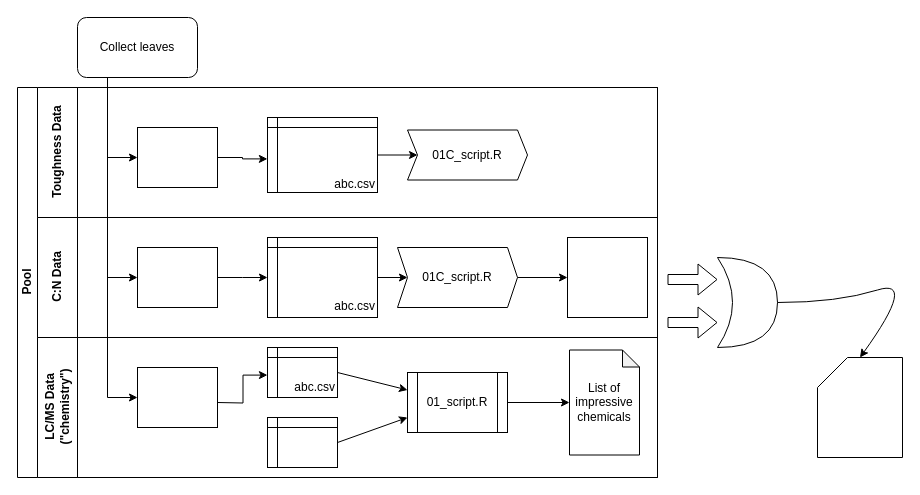
Some shapes in this 920 by 495 pixel diagram are drawn without their labels. Each missing label, with the centre of its shape:
Easy chem: (x=177, y=277)
help.csv: (x=302, y=442)
LC/MS: (x=177, y=397)
Punchies: (x=177, y=157)
Some correlation graph: (x=607, y=277)
The paper!!!: (x=859, y=407)
